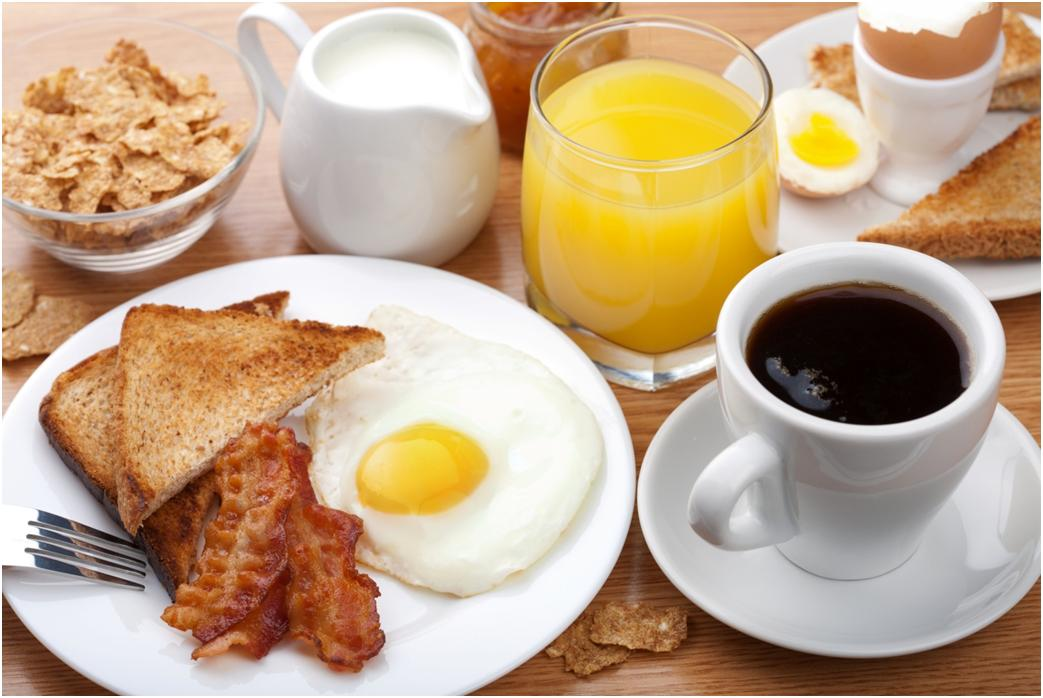fried egg: (330, 317, 585, 582)
glass of milk: (266, 6, 503, 272)
slice of bread: (109, 296, 362, 525), (867, 130, 1043, 262)
